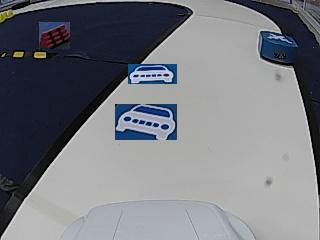prop: (258, 30, 298, 67)
